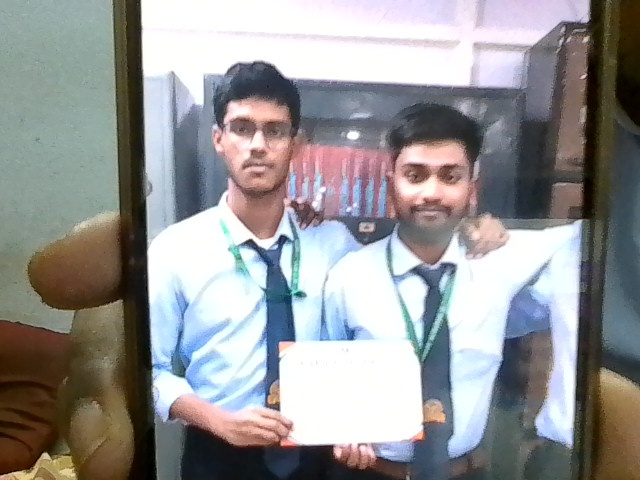real: (210, 63, 310, 205)
